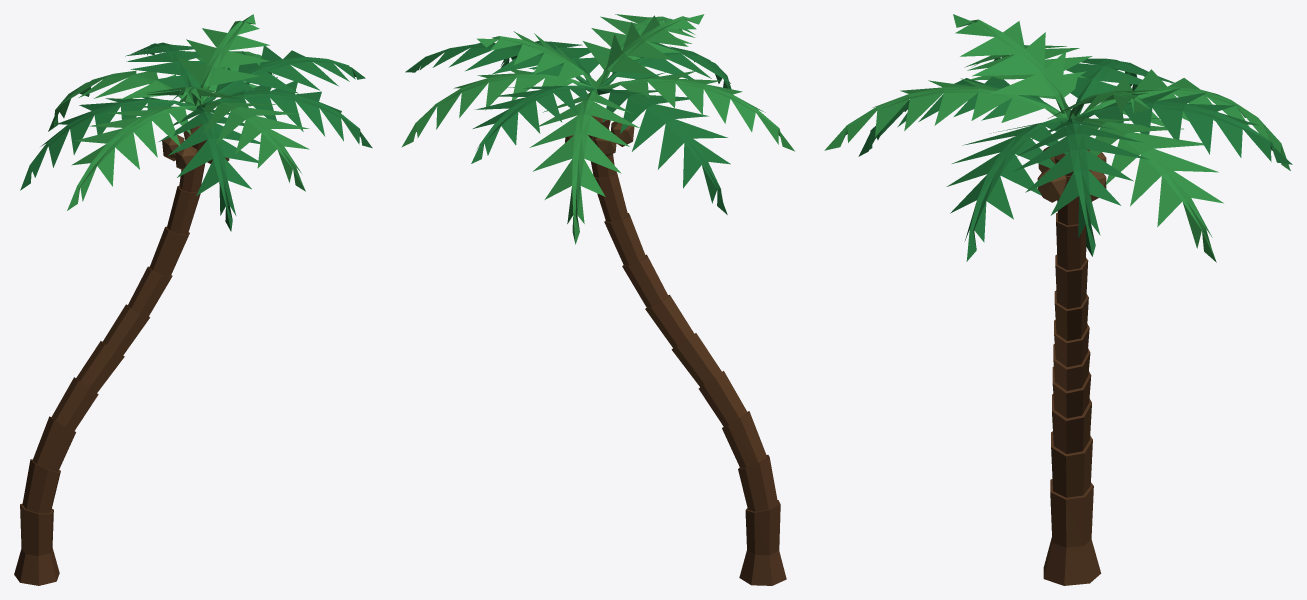
The model's file is beach-palm-2.glb.
The picture shows the model from 3 angles, left to right: view 1: azimuth 30°, elevation 25°; view 2: azimuth 150°, elevation 25°; view 3: azimuth 270°, elevation 25°; orthographic projection. The views are drawn at different scales.
Visible parts, largest first — view 1: BeachPalm2; view 2: BeachPalm2; view 3: BeachPalm2.
Boxes of the visible parts, bbox=[...] form: BeachPalm2: bbox=[14, 14, 372, 585]; BeachPalm2: bbox=[401, 14, 794, 585]; BeachPalm2: bbox=[824, 14, 1292, 585].
Bounding box in the file's own units: 6.72 × 8.7 × 5.92.
